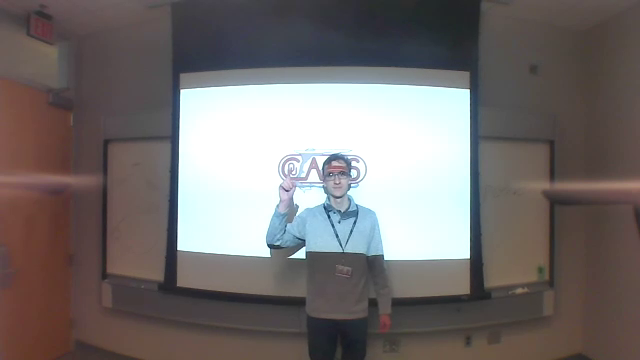up: (278, 168, 298, 199)
